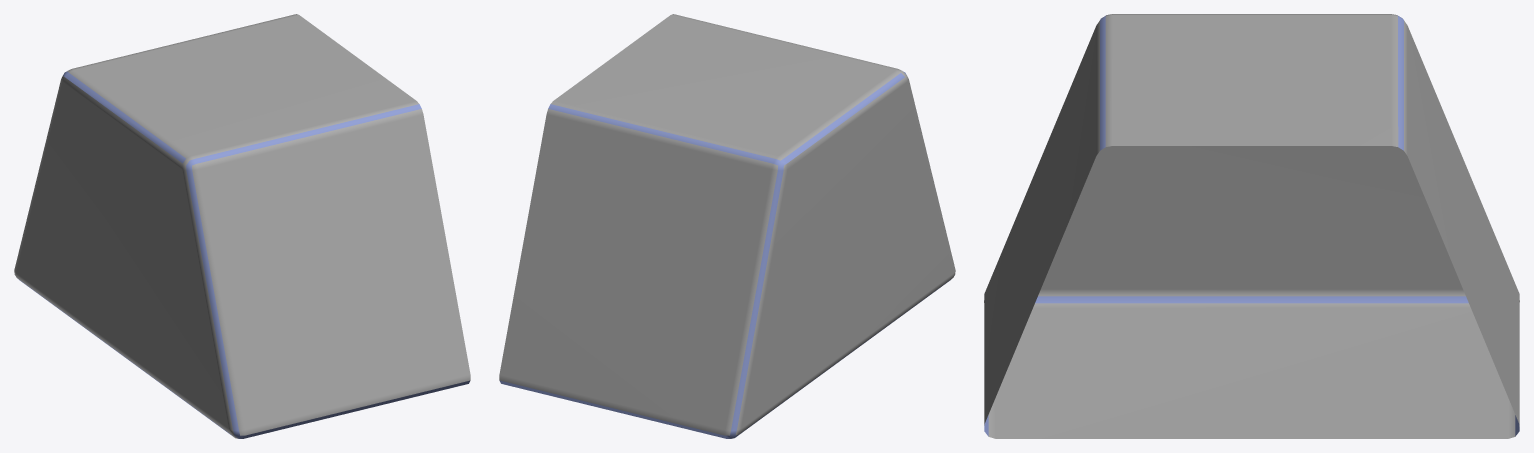
The model's file is Arena.fbx.
3 views of the same model, side by side, from view 1: azimuth 30°, elevation 25°; view 2: azimuth 150°, elevation 25°; view 3: azimuth 270°, elevation 25° (orthographic). The views are drawn at different scales.
Parts seen in each view (by area): view 1: pCube1; view 2: pCube1; view 3: pCube1.
Part boxes in pixels (x1,y1,x2,y2): pCube1: (14,14,470,438); pCube1: (499,14,955,438); pCube1: (984,14,1519,438).
Size of the model in its own units: 1 by 1 by 1.66.
